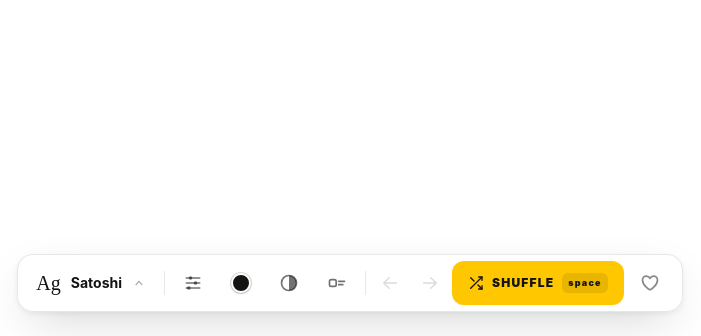
BottomDock › opens the tune panel with sliders
What coordinates should you click on to do the following:
click the button titled "Tune size, weight & spacing"
I would click on:
 (193, 283)
Its box is 171,261 -> 215,305.
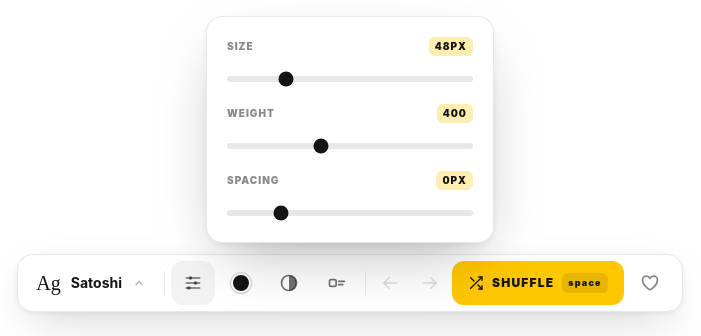
Now the number of sliders is 3, box 227,76 -> 473,82; 227,143 -> 473,149; 227,210 -> 473,216
